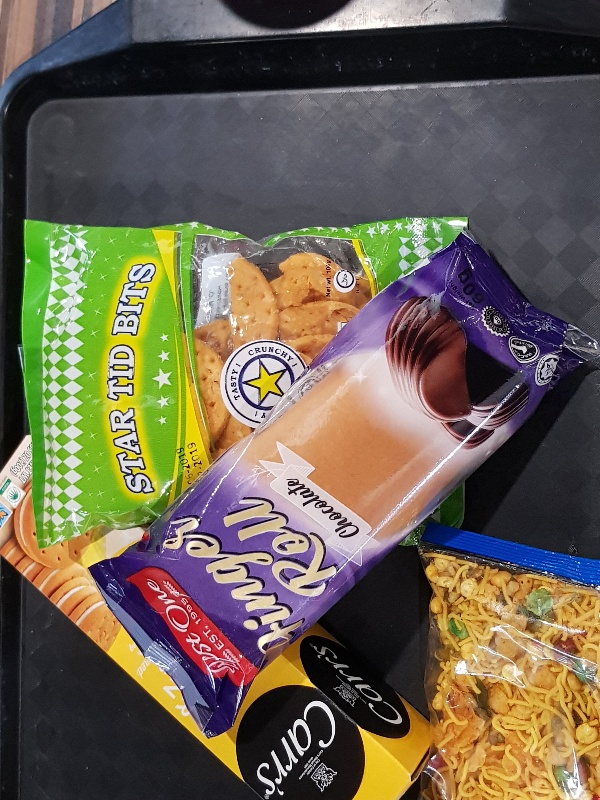Carr's Ginger Lemon Cremes: (1, 435, 428, 800)
Star Tidbits 'O' Ring: (22, 216, 468, 547)
Star Tidbits Mixer: (418, 527, 599, 800)
Tinges Roll Chocolate: (87, 235, 597, 738)
